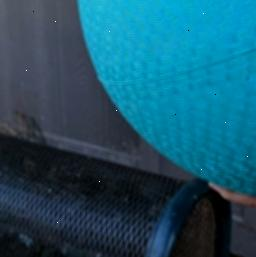algae: (74, 0, 256, 200)
